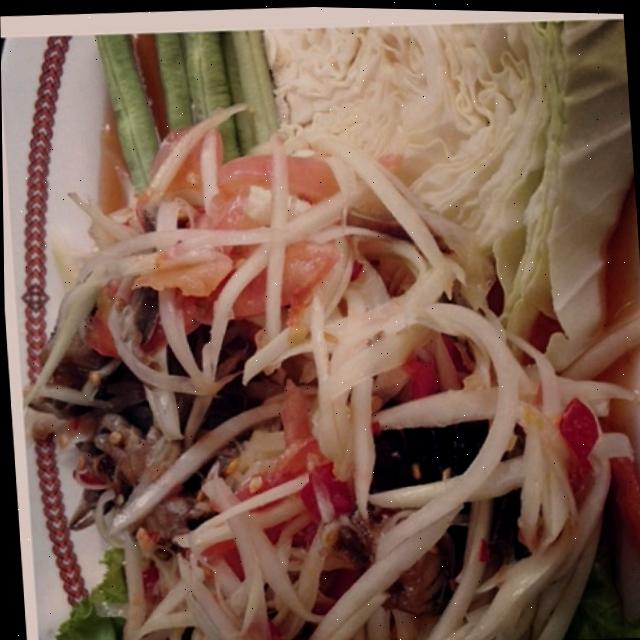蔬菜料理: (0, 19, 640, 640)
